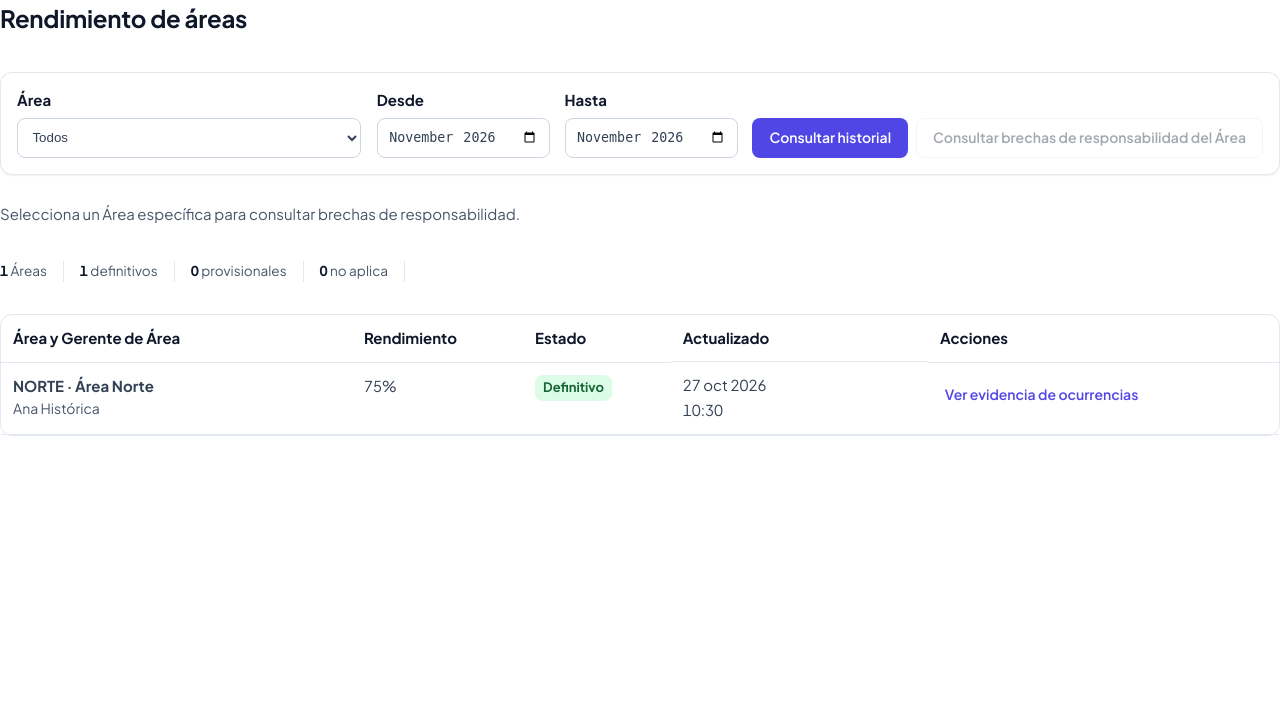
Test: GOAreaPerformanceHistoryPage › renders server-exposed manual provenance as read-only evidence without requesting an automatic occurrence detail
The image size is (1280, 720).
Click the button "Ver evidencia de ocurrencias". click: click(1042, 395)
box: [940,375,1143,415]
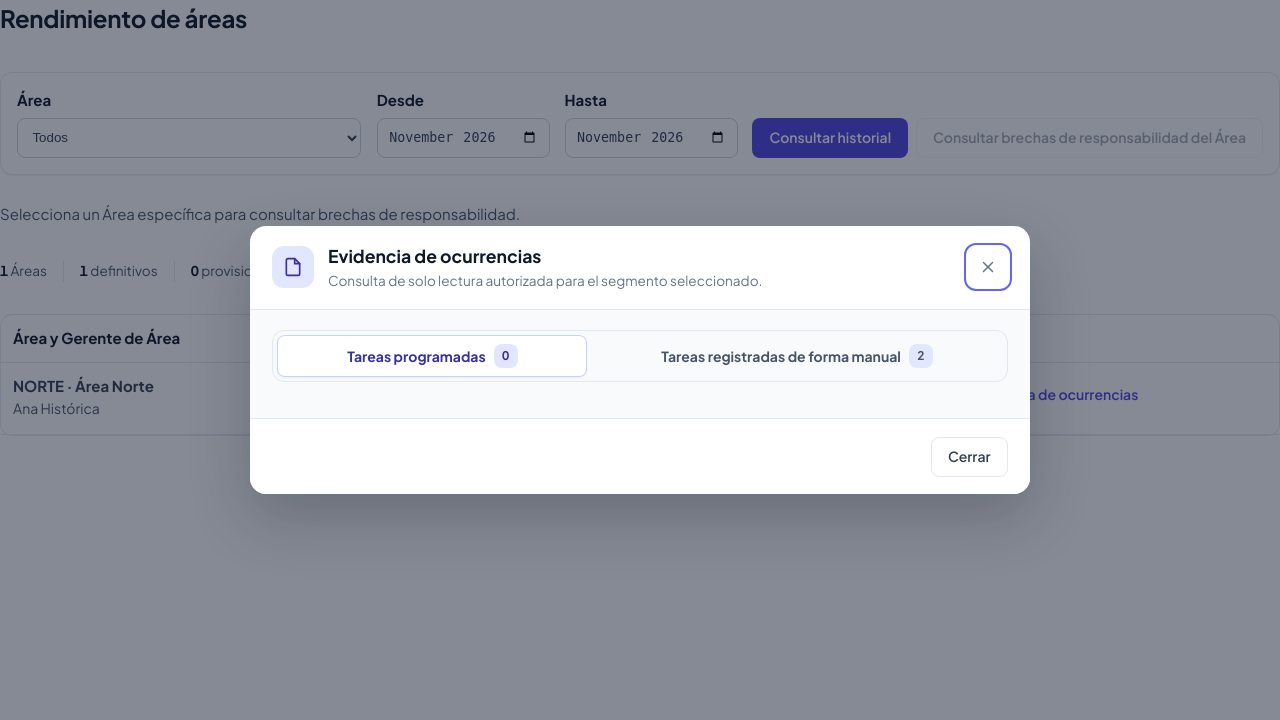
Expected: the text "Auditoría manual" is not shown
Click the tab "Tareas registradas de forma manual 2". click: click(797, 356)
box: [591,335,1003,377]
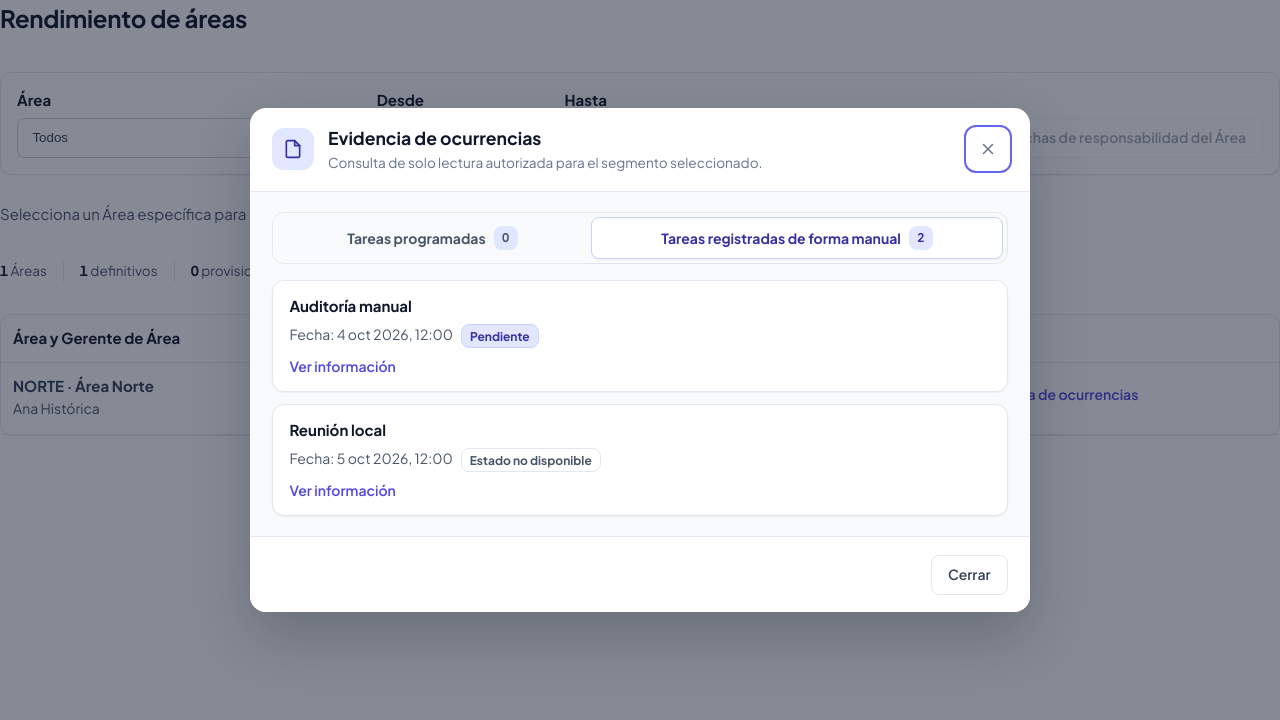
Expected: the text "Auditoría manual" is shown, [289,296,412,315]
Click the button with aria-label "Ver información de Auditoría manual". click: click(343, 367)
box: [289,356,396,377]
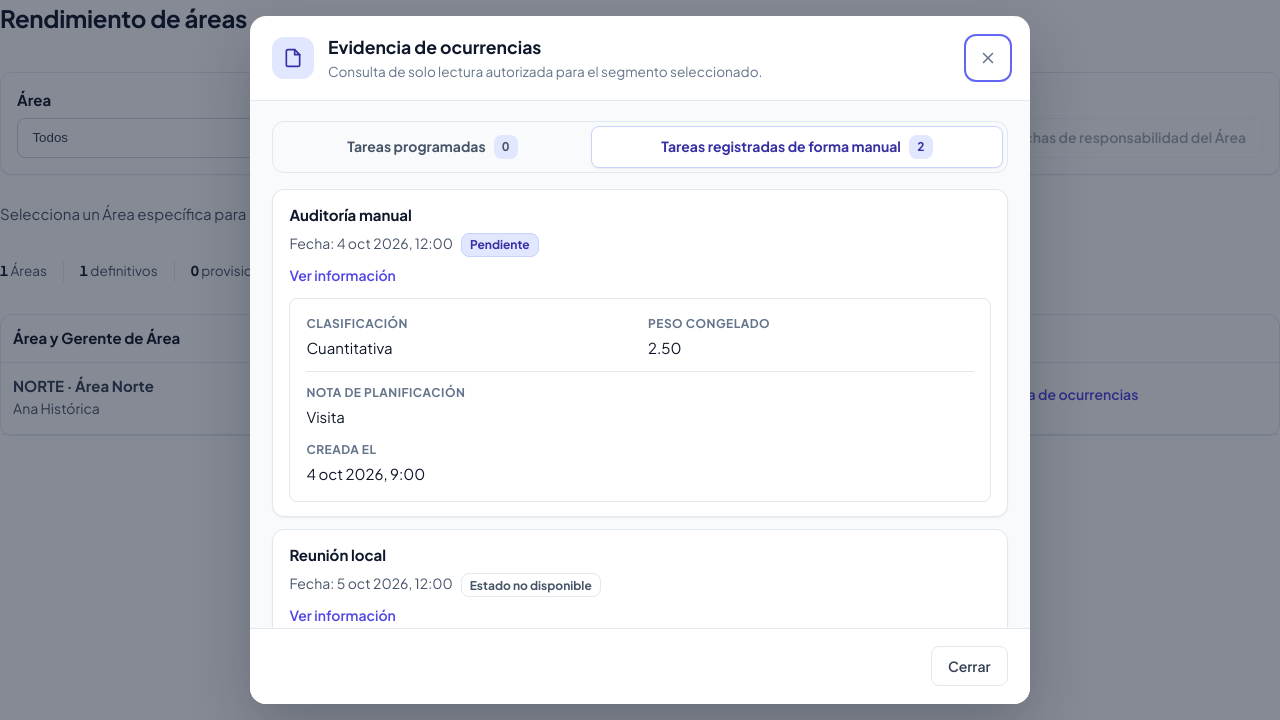
Expected: the button with aria-label "Ver información de Auditoría manual" is expanded, [289,265,396,286]
Expected: the text "Cuantitativa" is shown, [306,338,392,357]
Expected: the text "Peso congelado" is shown, [648,316,770,331]
Click the button with aria-label "Ver información de Reunión local". click: click(343, 616)
box: [289,605,396,626]
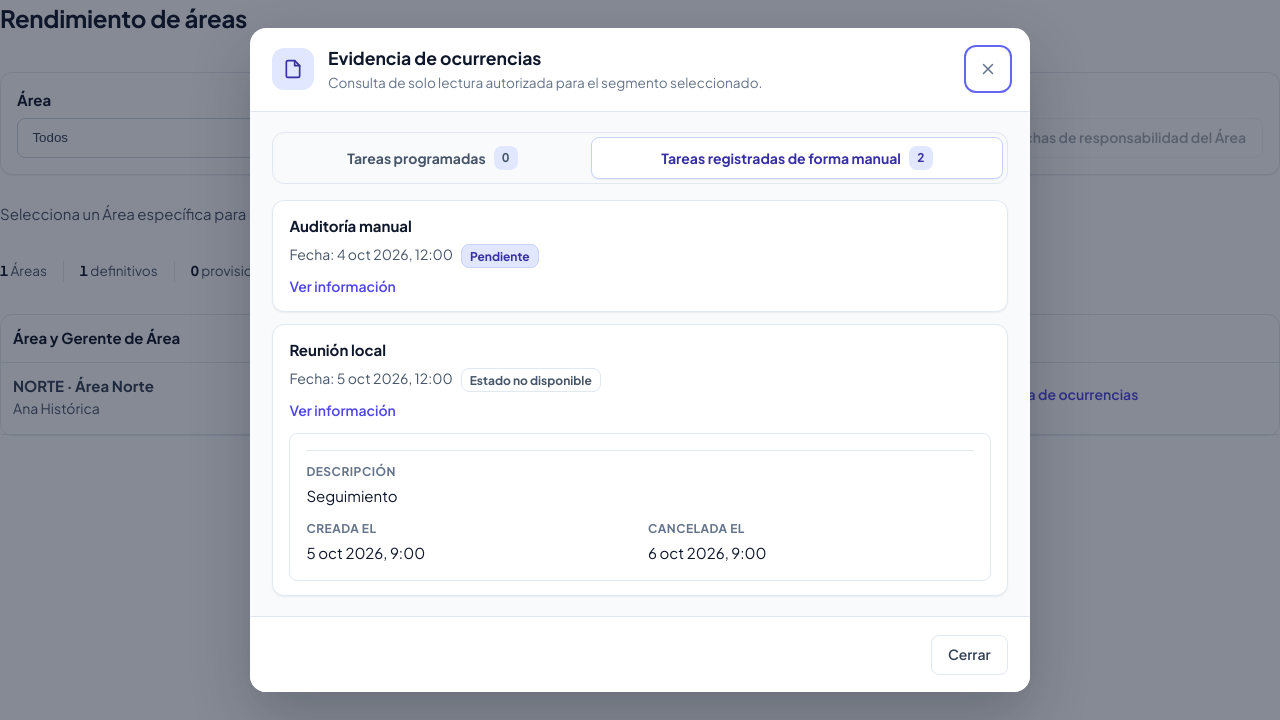
Expected: the text "Descripción" is shown, [306,464,396,479]
